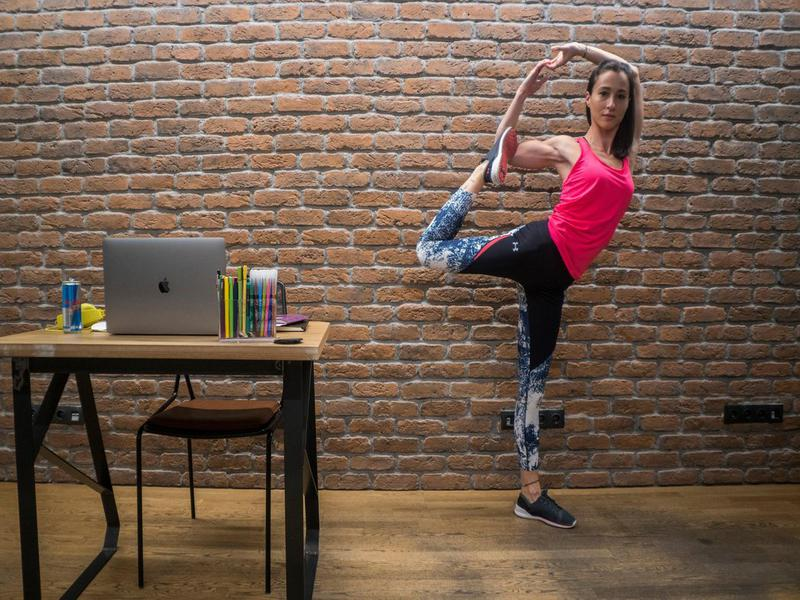human: (420, 49, 645, 532)
